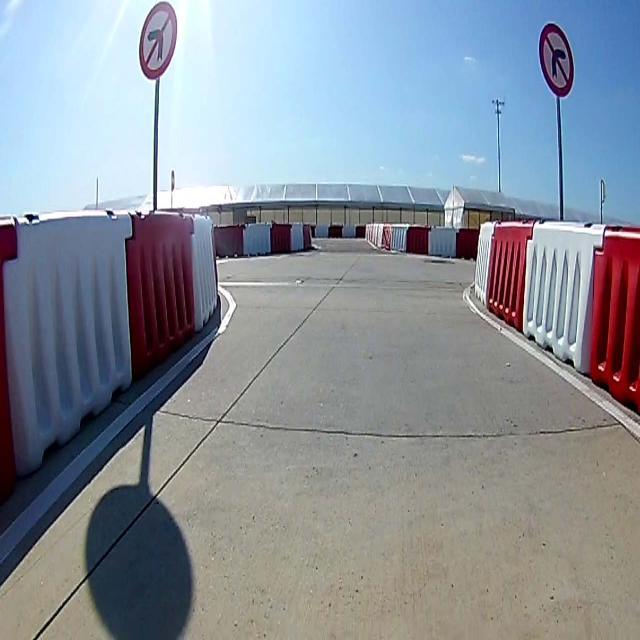sagadonulmez: (540, 26, 574, 93)
soladonulmez: (141, 7, 173, 81)
